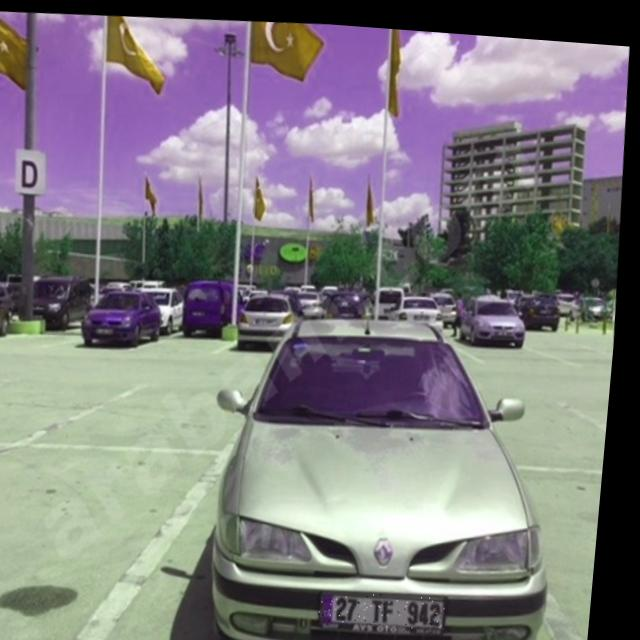license_plate: (328, 582, 456, 625)
